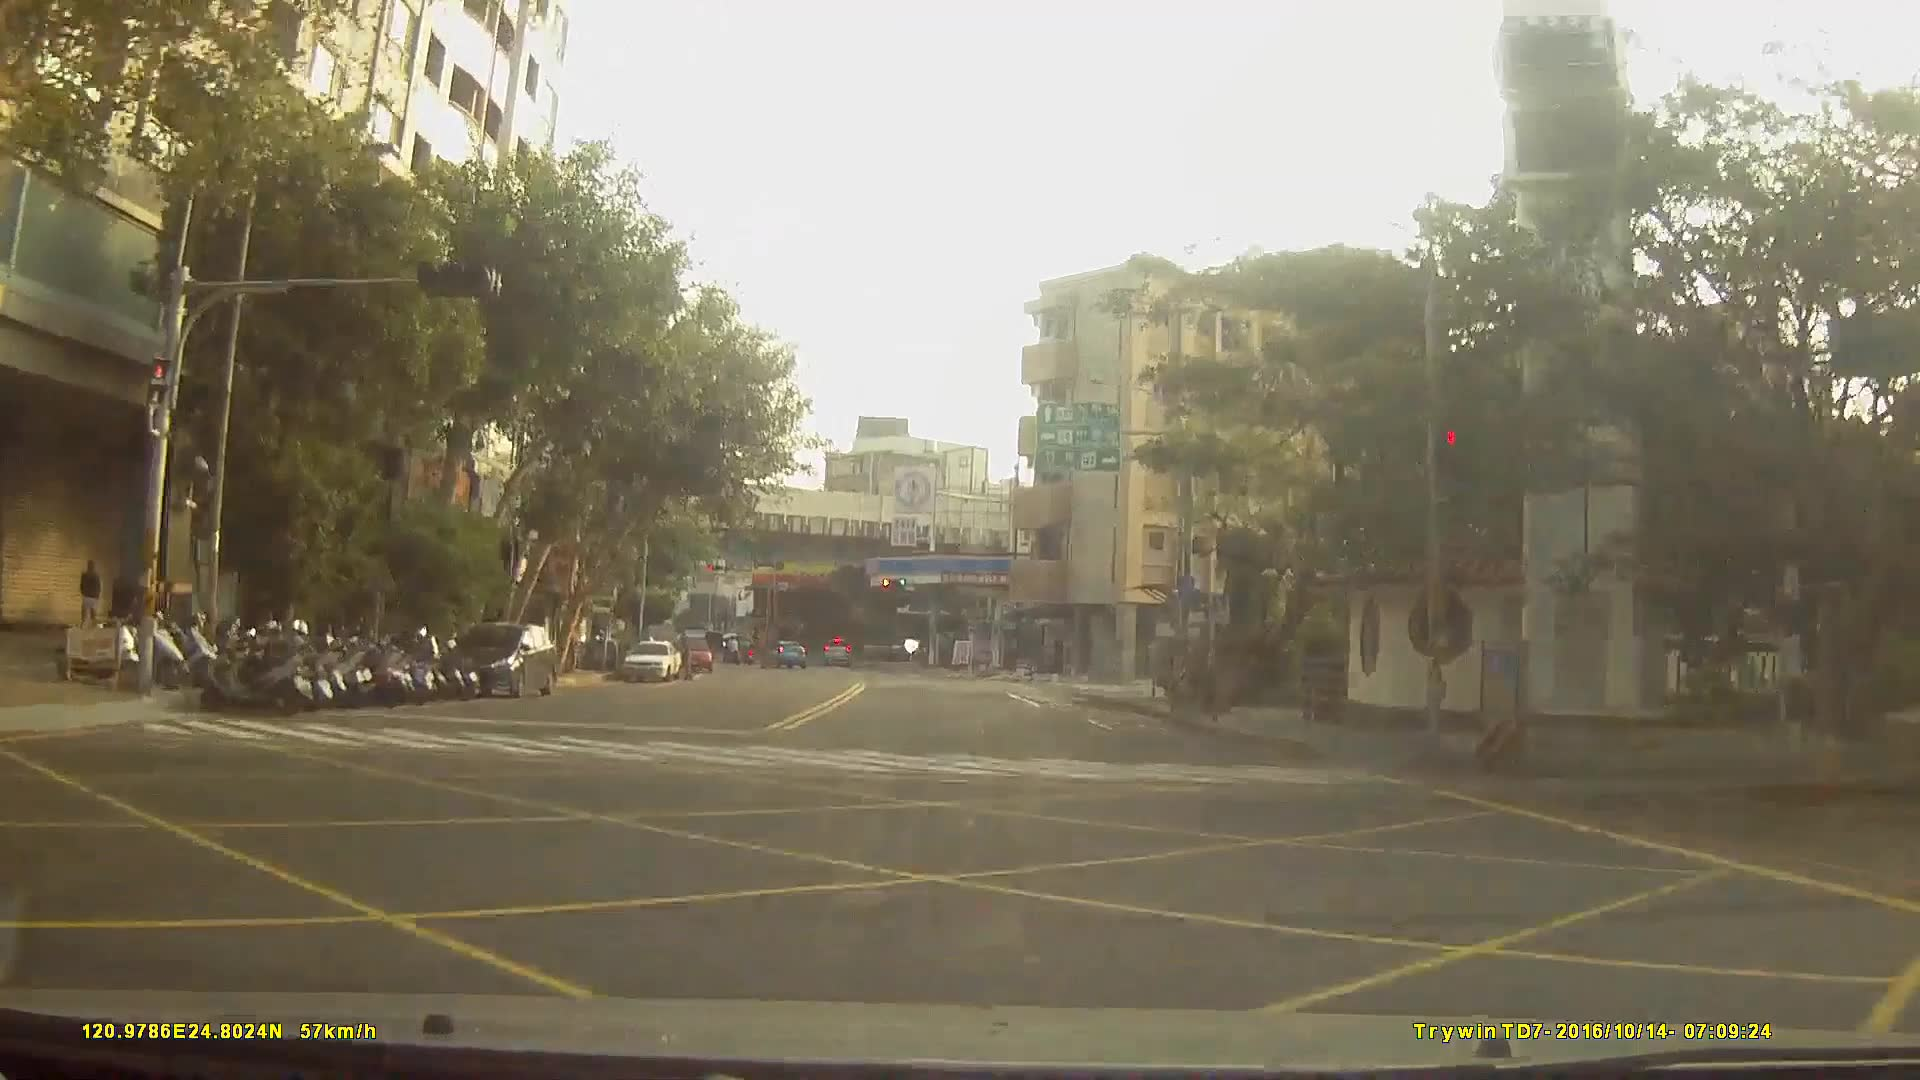pedestrian: (79, 562, 105, 640)
vehicle: (441, 622, 556, 699), (617, 638, 679, 682), (669, 635, 712, 674), (759, 642, 806, 673), (821, 637, 853, 665)
